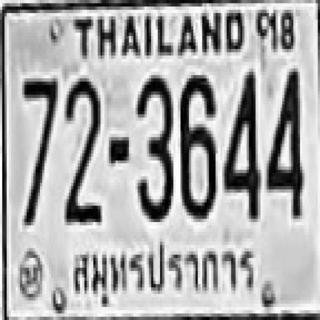N02: (63, 77, 99, 224), (63, 77, 99, 211)
N03: (136, 74, 171, 220)
N04: (264, 65, 302, 216), (222, 69, 258, 219)
N06: (179, 73, 214, 217)
N07: (22, 75, 56, 222), (22, 75, 56, 176)
P57: (69, 235, 257, 299)
